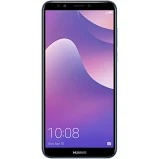huawei: (41, 1, 117, 158)
